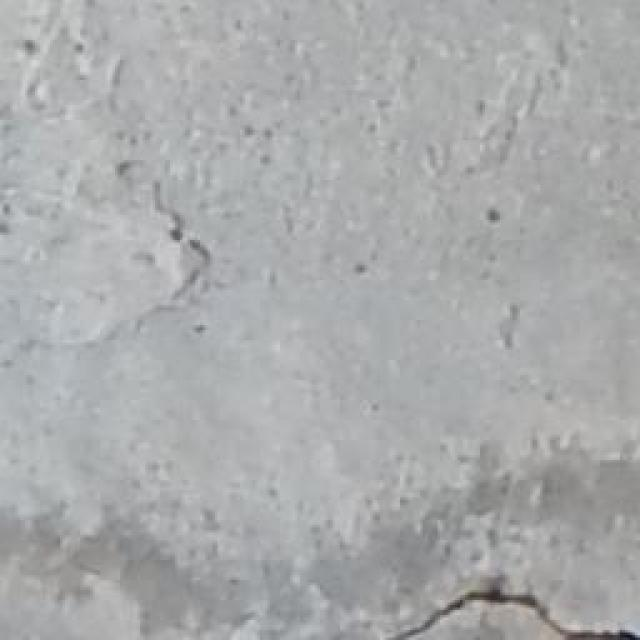concrete-crack: (386, 585, 640, 640)
